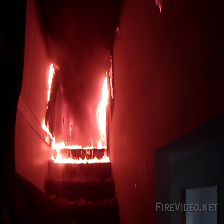fire_h: (96, 77, 109, 149), (52, 151, 111, 162), (52, 142, 95, 150)
fire_l: (41, 118, 54, 144), (47, 63, 55, 102), (109, 56, 114, 99), (156, 1, 162, 11), (116, 27, 119, 35)
